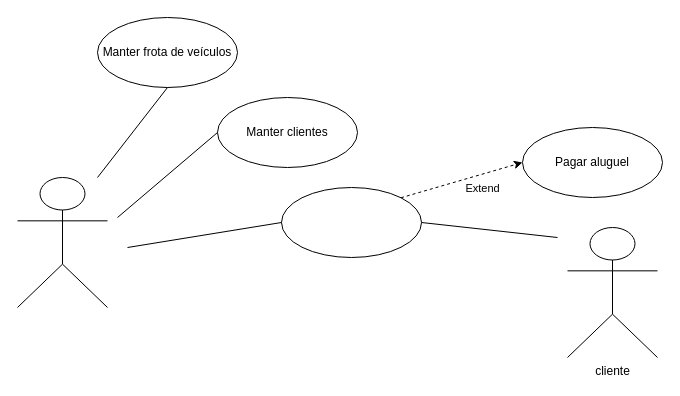
The diagram is 680 pixels wide and 396 high, and some of its shapes have lost their labels. The box of each missing label's shape, as (x1, y1, x2, y2) in pixels:
empresa: (16, 176, 108, 308)
Manter aluguel: (280, 186, 422, 258)
